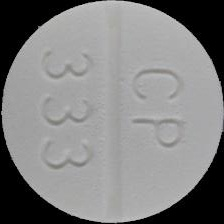68151-2269: (0, 0, 224, 224)
